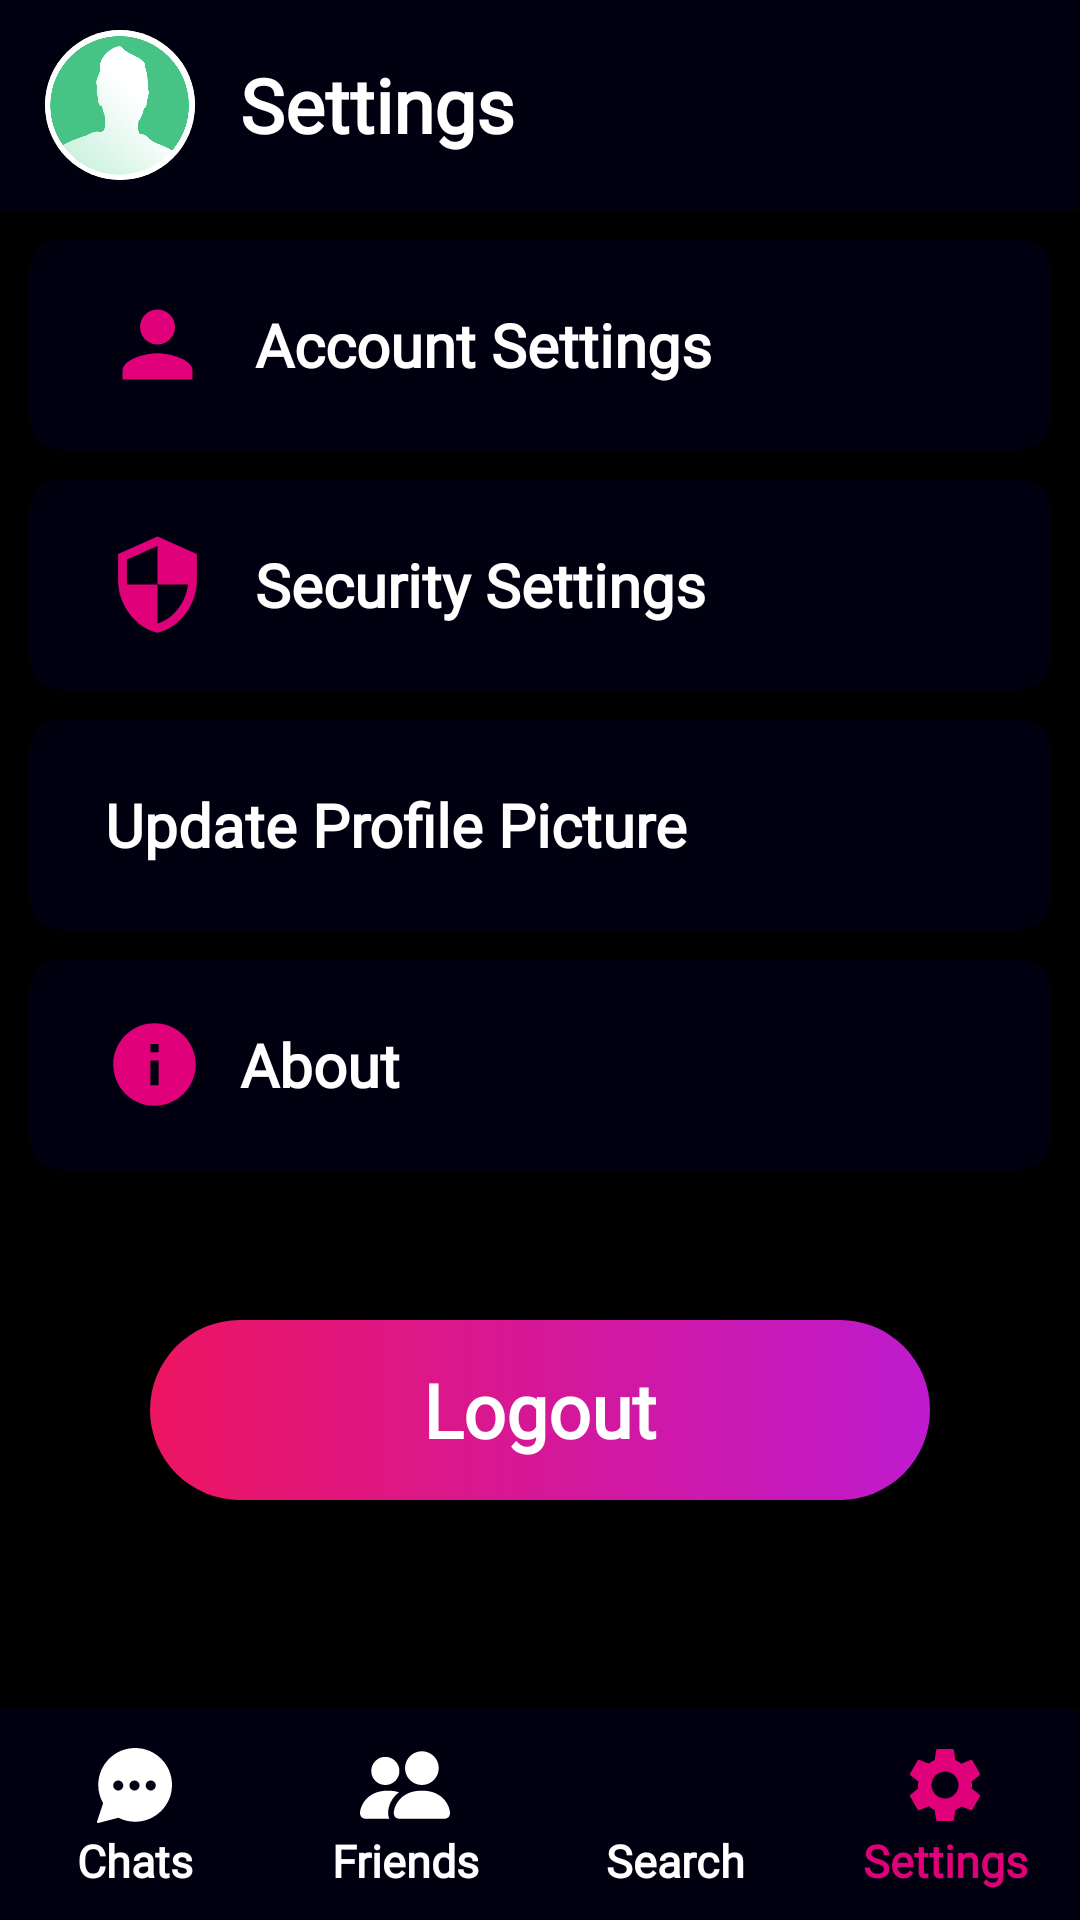

Locate icon controls on the screen. Image size 1080×1920, boxes as (x1, y1, x2, y2).
people multi: (360, 1751, 450, 1819)
